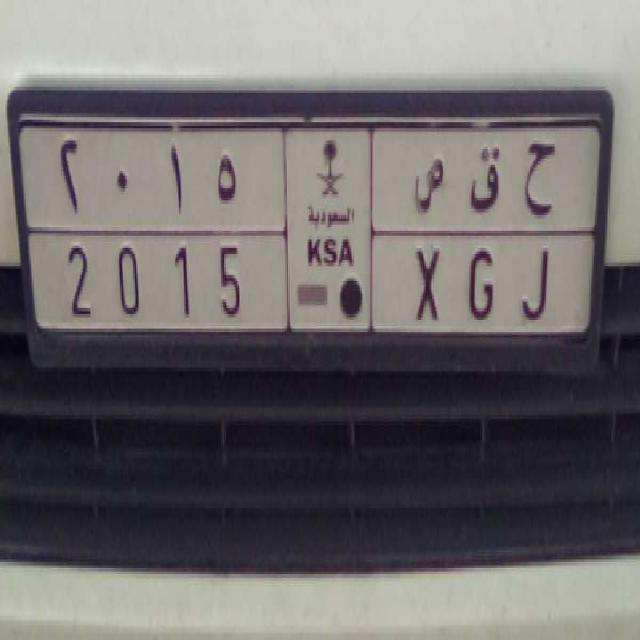license_plate: (42, 222, 580, 346)
